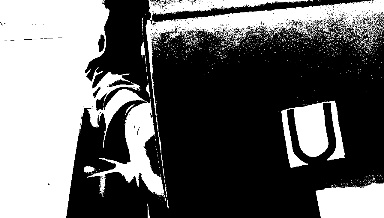U: (282, 100, 342, 166)
